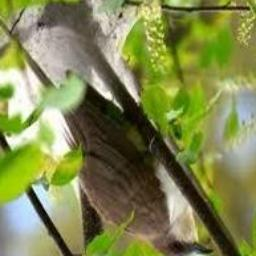Cuckoo: (0, 16, 214, 256)
